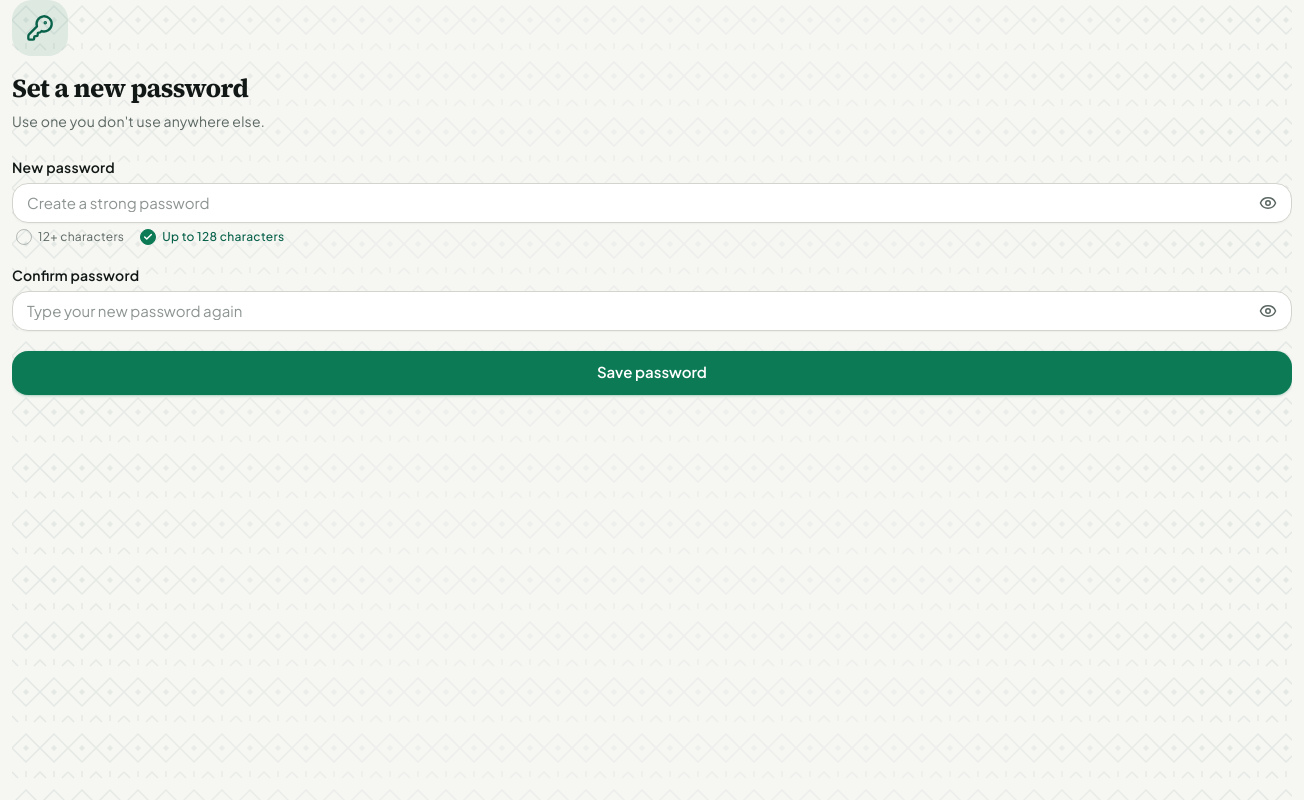
Test: ResetPasswordPage recovery session check › keeps the recovery form and typed passwords through an MFA challenge
Step 1. Type "Str0ng!Passw0rd#2026" into the password field labelled "New password" → (652, 202), box [12,182,1292,222]
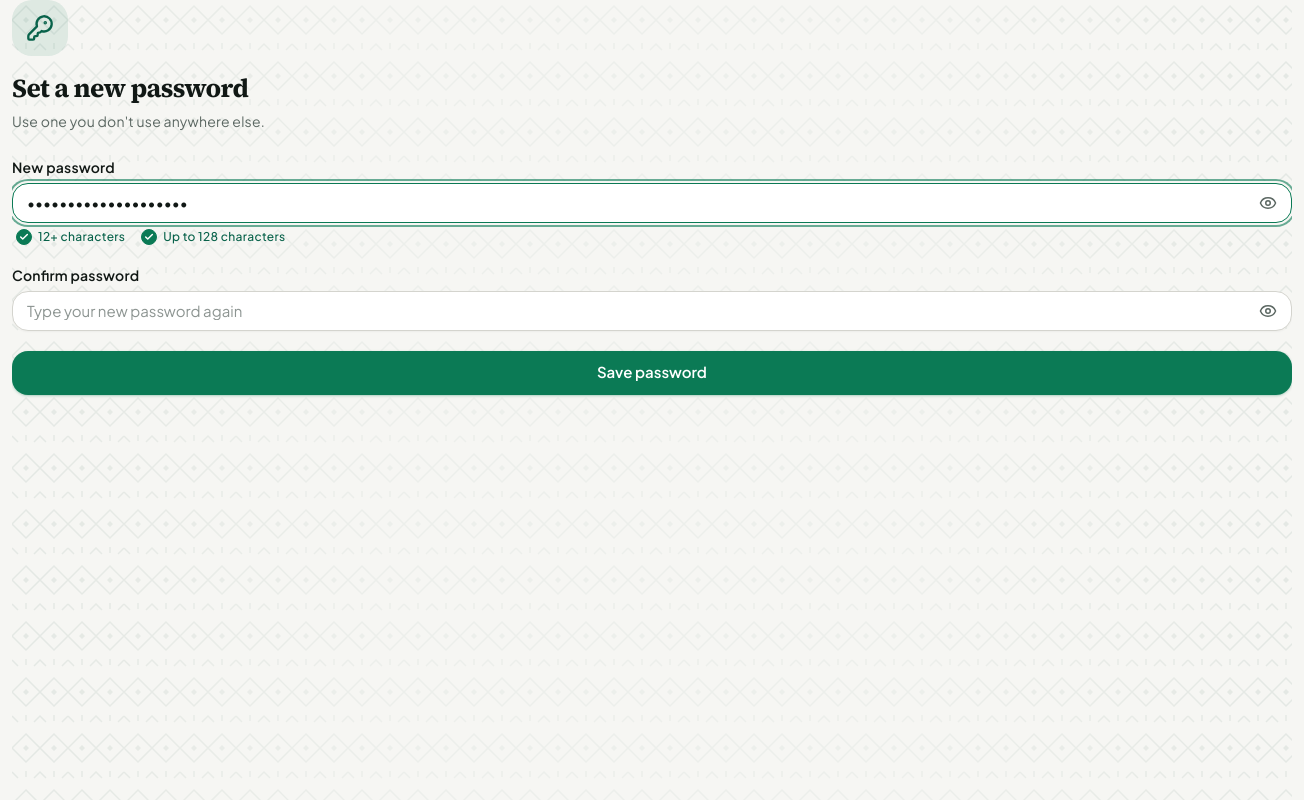
Step 2. Type "Str0ng!Passw0rd#2026" into the password field labelled "Confirm password" → (652, 310), box [12,290,1292,330]
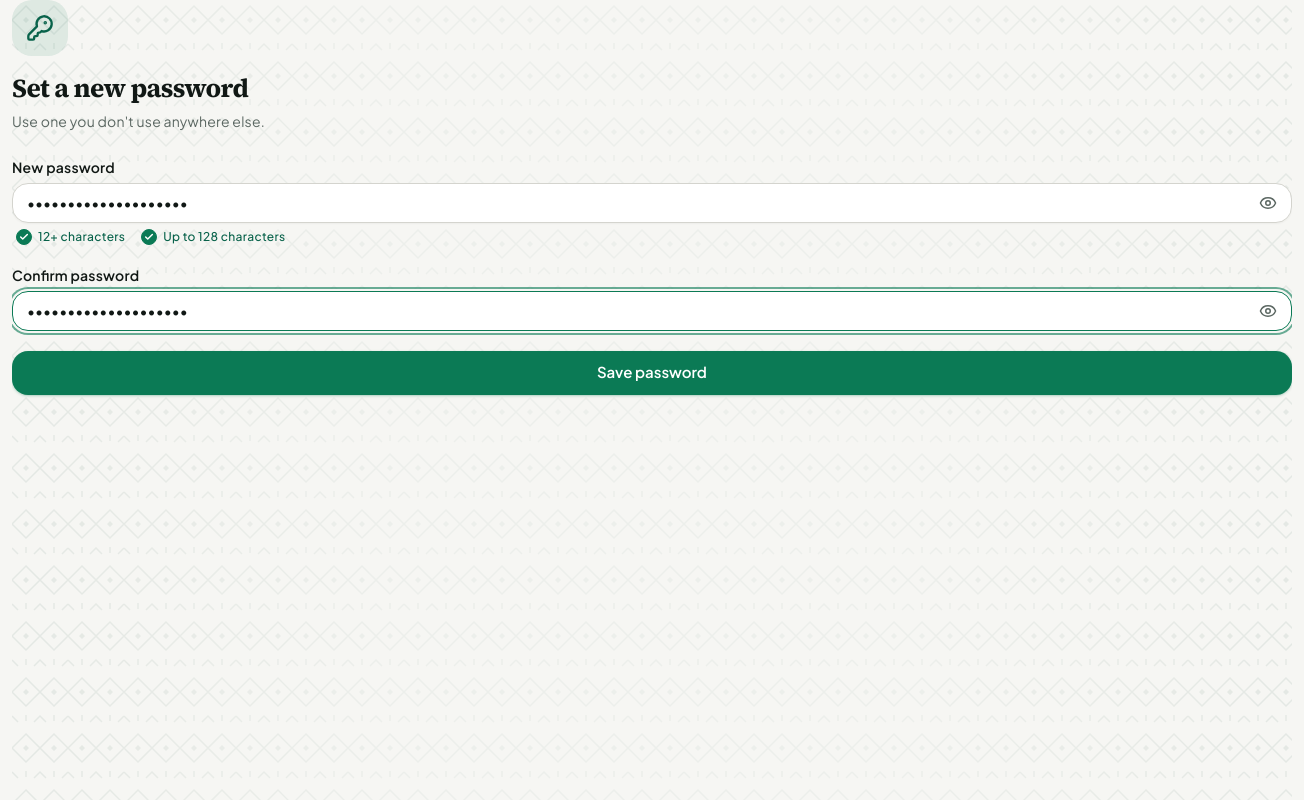
Step 3. Click the button "Save password" → (652, 372), box [12,350,1292,394]
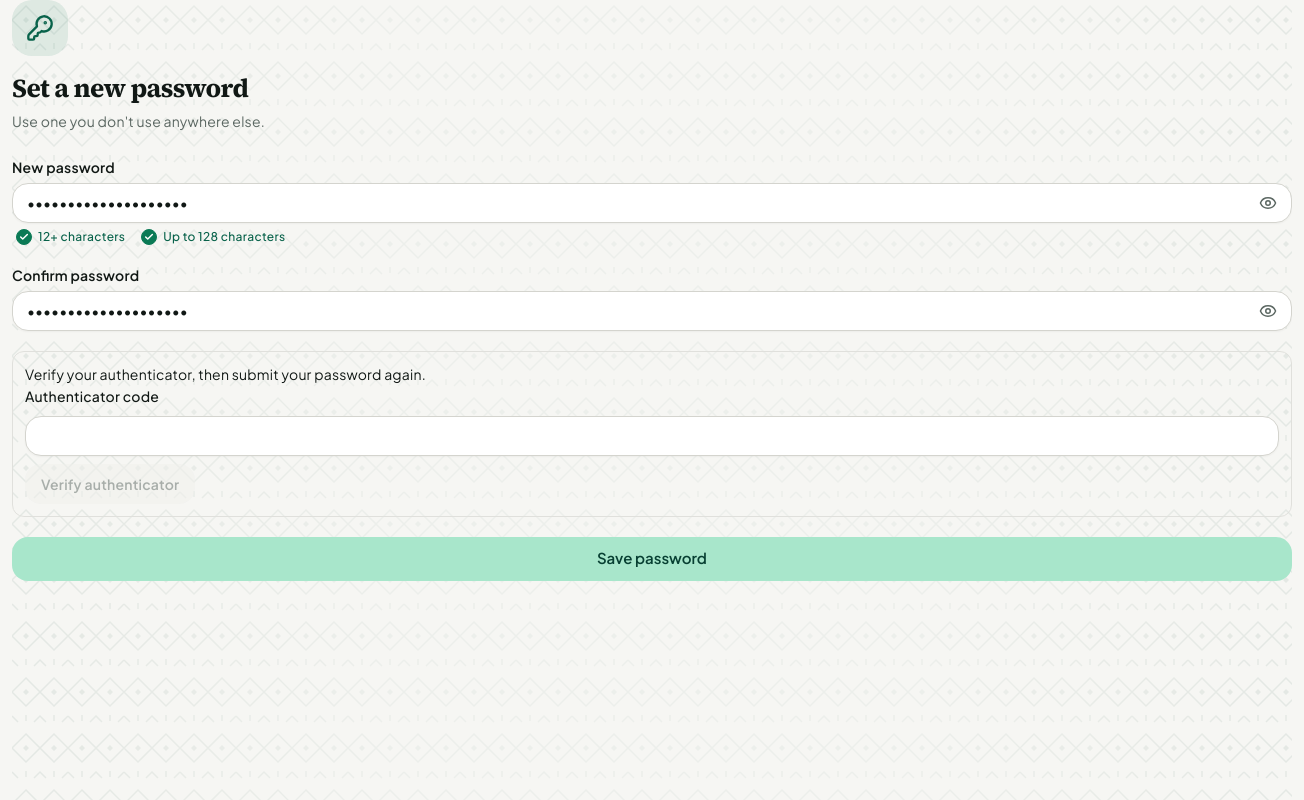
Result: the field labelled "Authenticator code" is shown
Result: the button "Save password" is disabled at [12,536,1292,580]
Step 4. Type "123456" into the field labelled "Authenticator code" → (652, 436), box [25,416,1279,456]
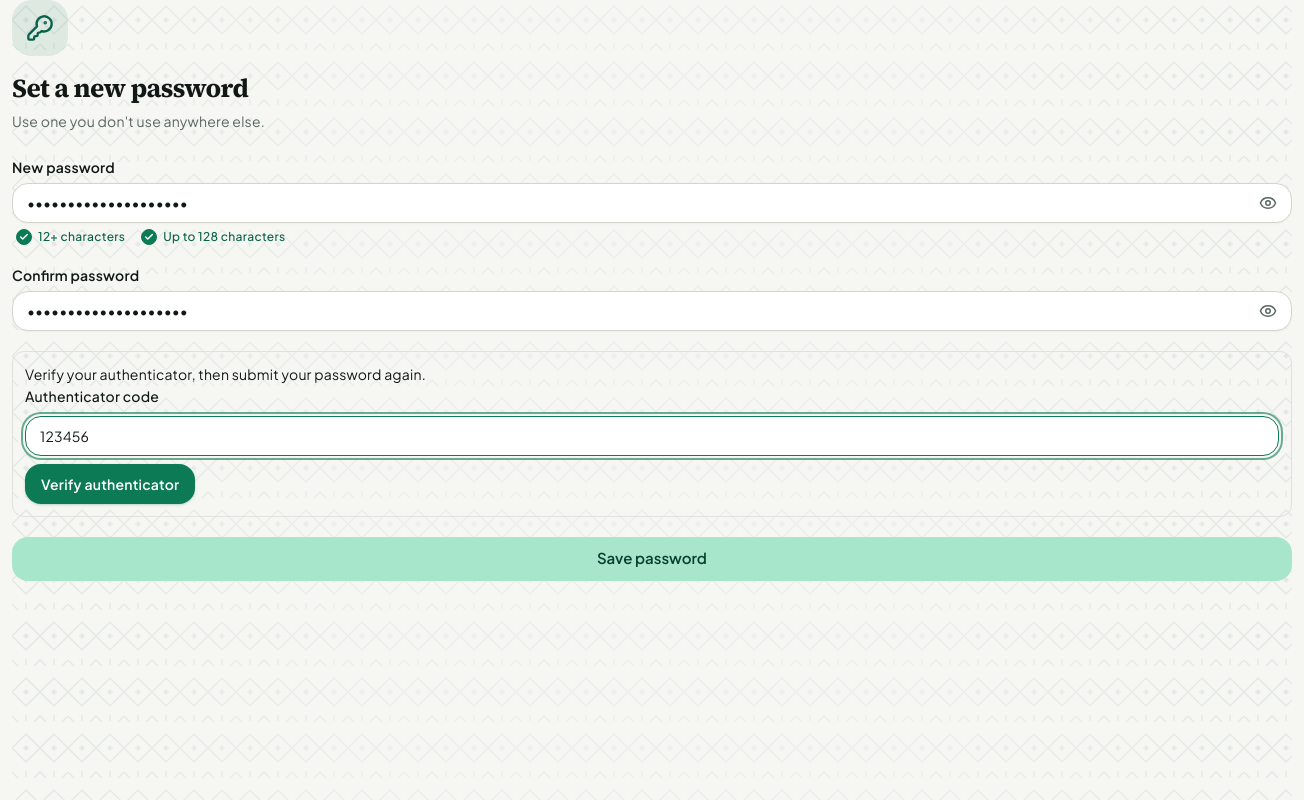
Step 5. Click the button "Verify authenticator" → (110, 484), box [25,464,195,504]
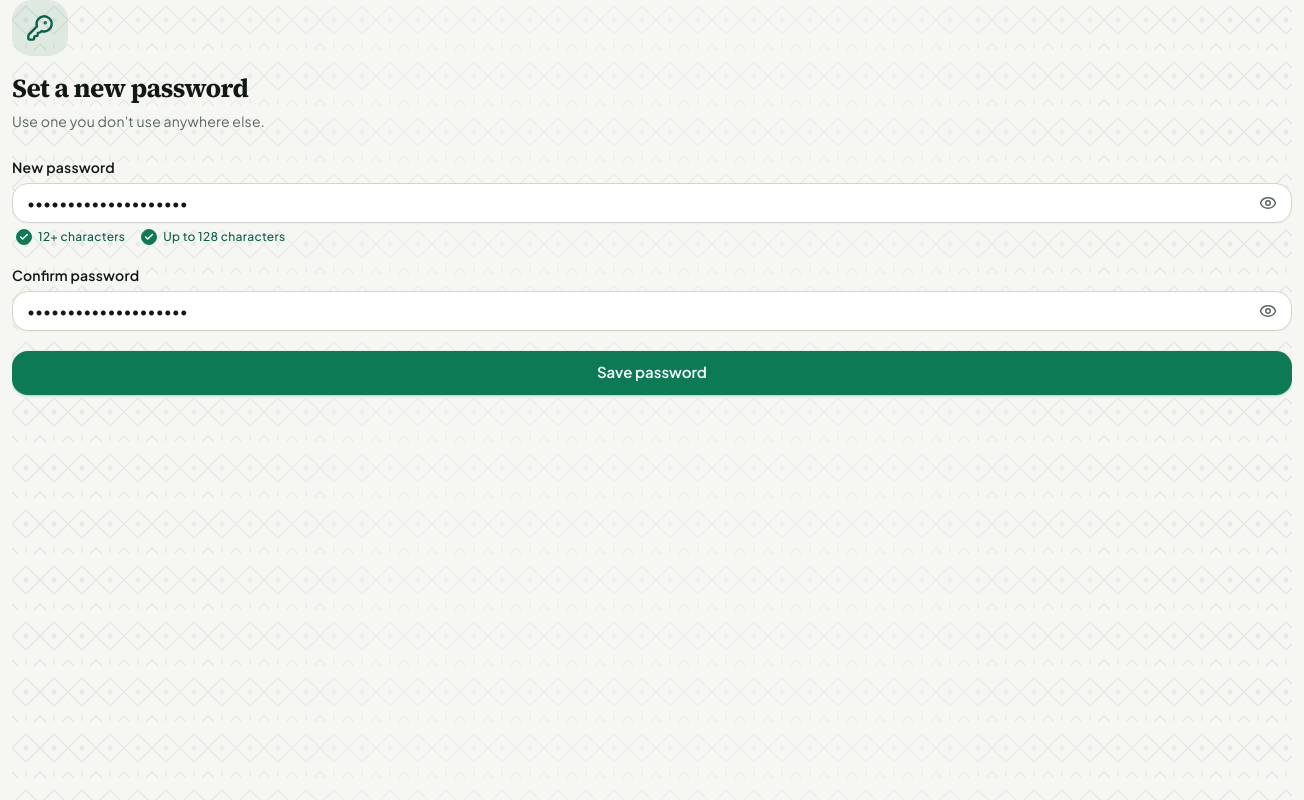
Result: the button "Save password" is enabled at [12,350,1292,394]
